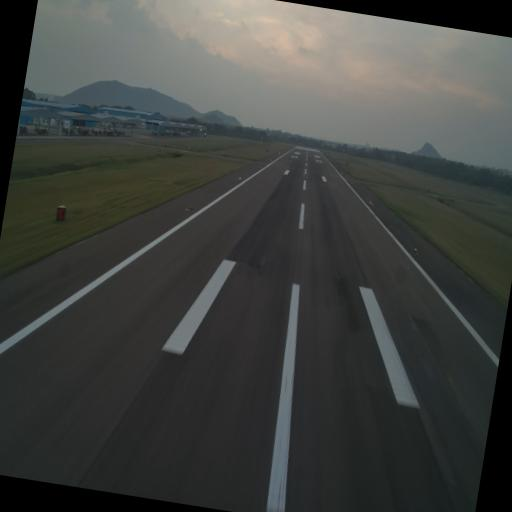off: (186, 203, 193, 214)
on: (412, 244, 419, 256), (368, 200, 370, 206), (238, 176, 240, 181)
